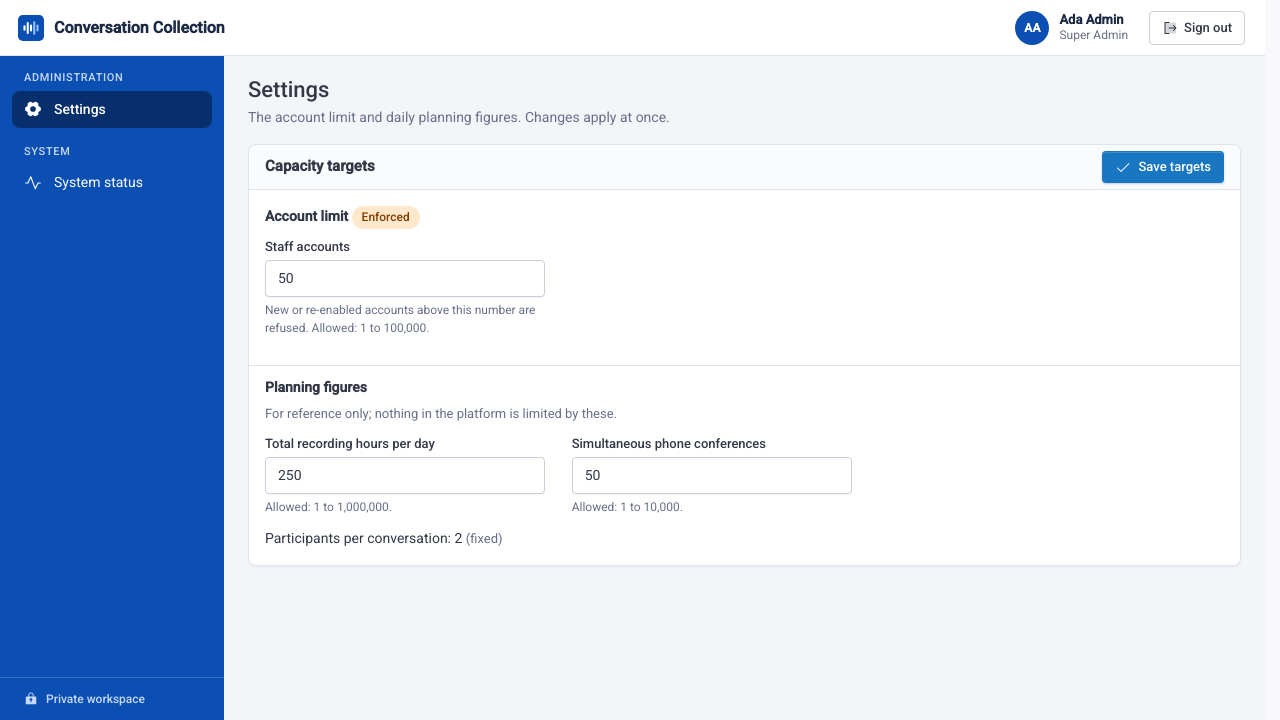
Test case: SettingsPage › sends only changed targets
The width and height of the screenshot is (1280, 720).
Replace the text in the number field labelled "Total recording hours per day" with "300" at (405, 476), box [265,458,545,494]
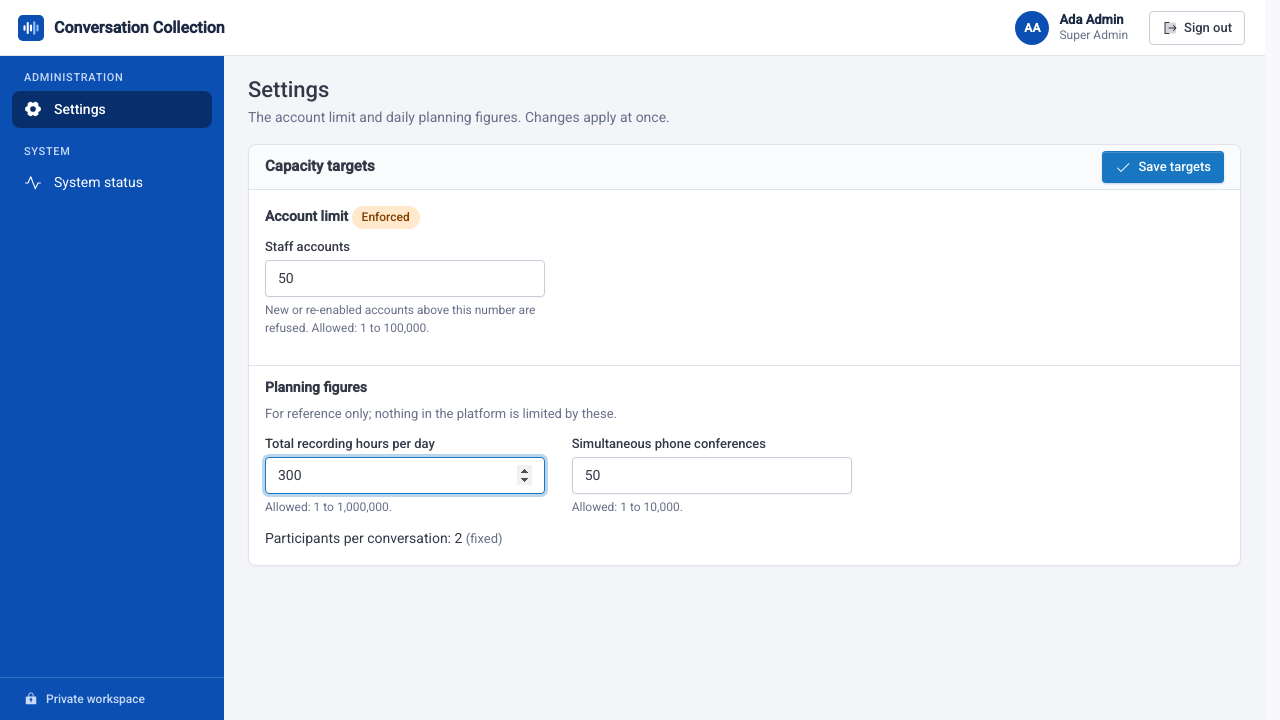
Click the button "Save targets".
click(1163, 167)  # box [1102,151,1224,183]
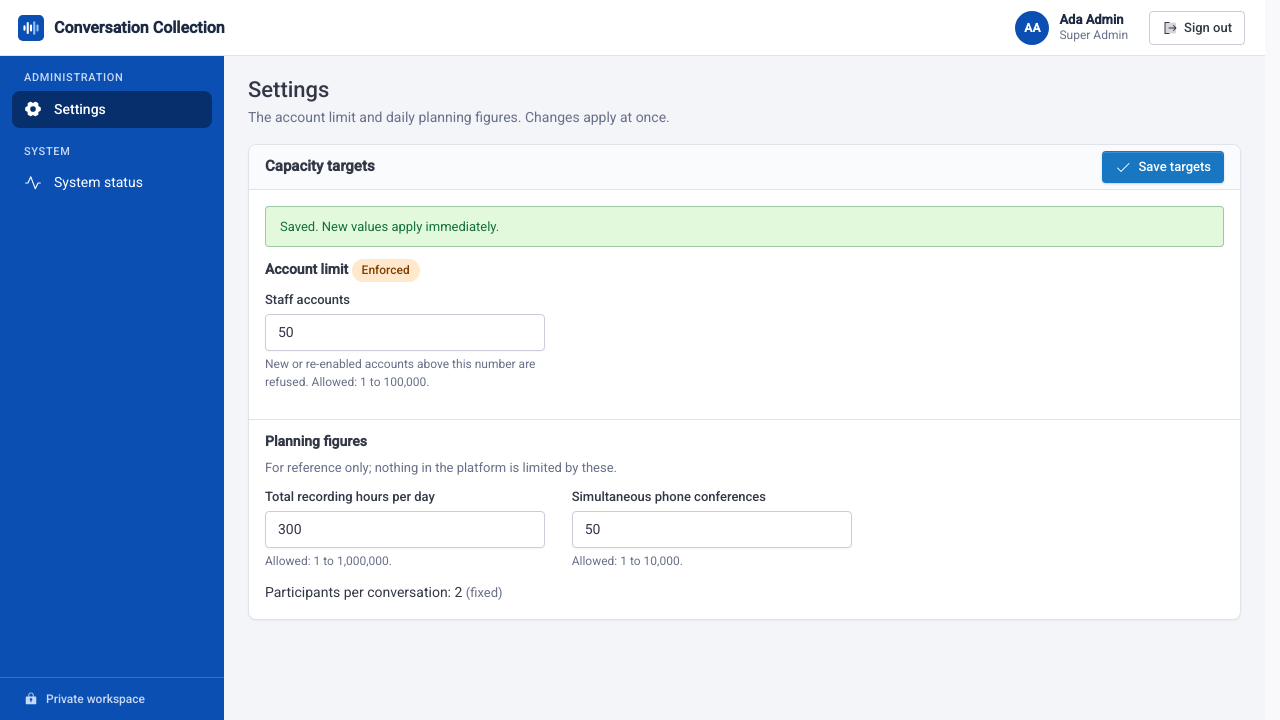
Expected: the text "Saved. New values apply immediately." is shown, [265,206,1224,247]
